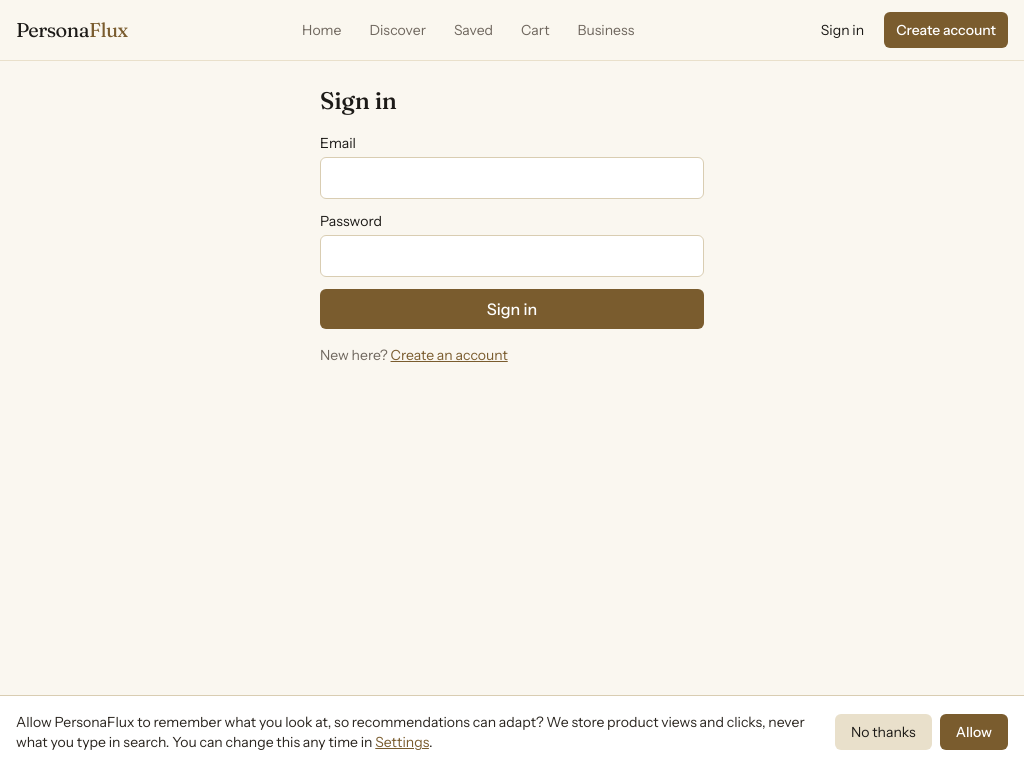
Scenario: signing in and out › signs in, shows the account, adopts the account's consent, and returns to where they were going
Type "ann@shop.dev" into the field labelled "Email" at (512, 178), box top-left (320, 157), bottom-right (704, 199)
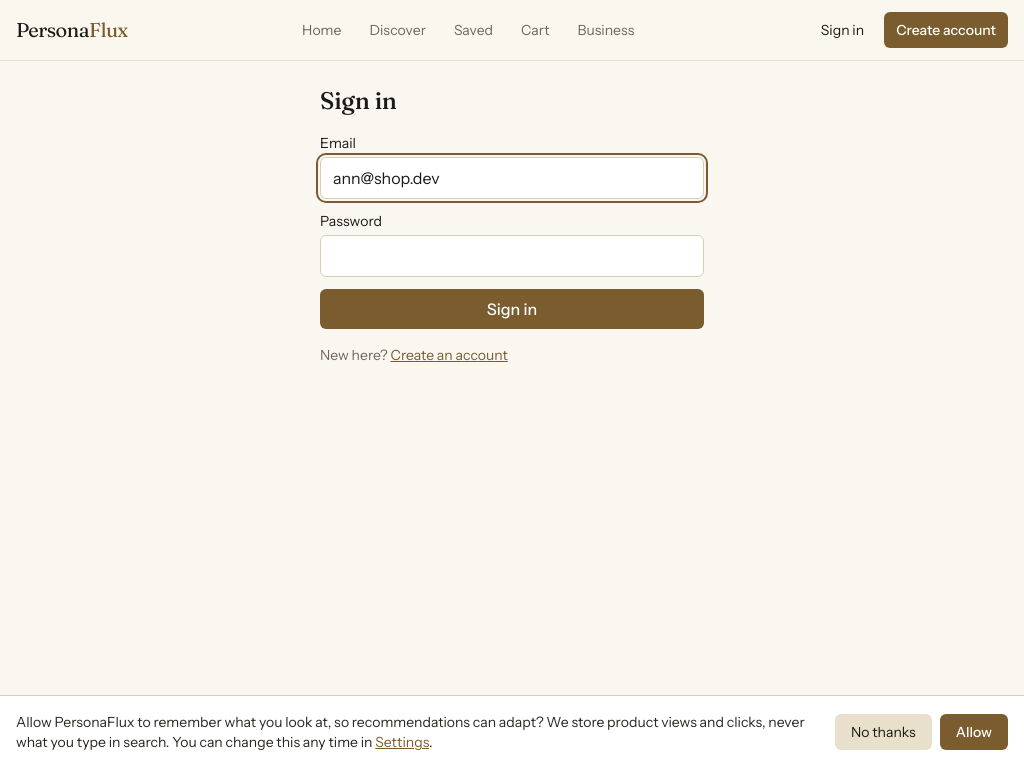
Type "correct-horse-battery" into the password field labelled "Password" at (512, 256), box top-left (320, 235), bottom-right (704, 277)
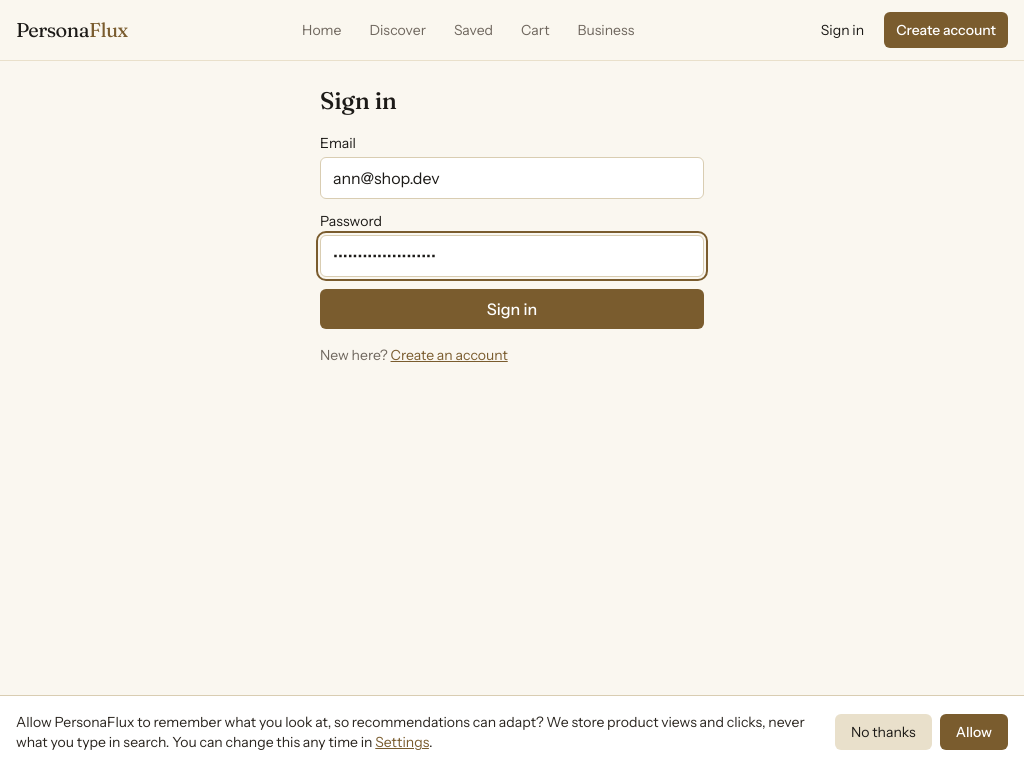
Click the button "Sign in" at (512, 309), box top-left (320, 289), bottom-right (704, 329)
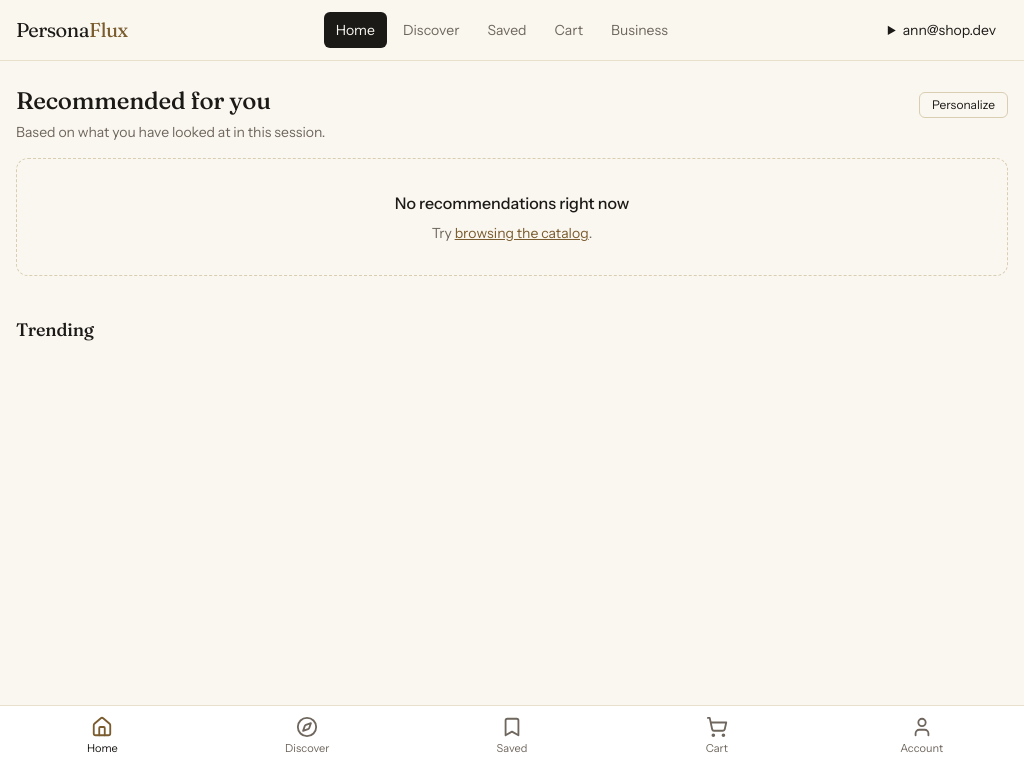
Result: the heading "ann@shop.dev" is shown at top-left (903, 21), bottom-right (996, 39)
